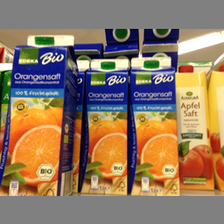juice: (1, 34, 78, 196), (128, 56, 180, 195), (85, 58, 131, 194)
